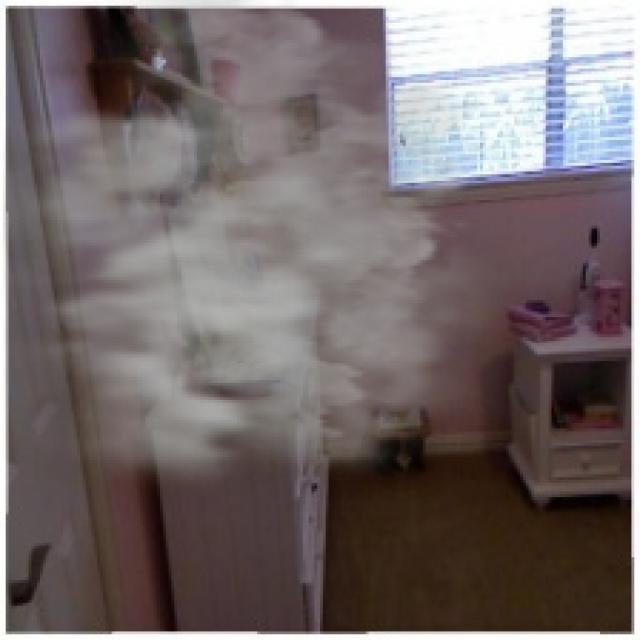Smoke: (2, 0, 532, 515)
